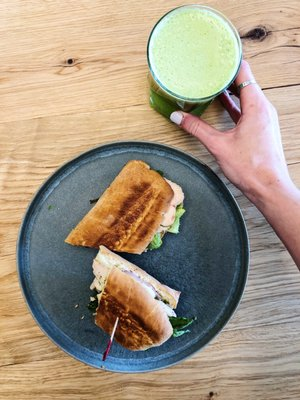pizza: (146, 4, 243, 125)
soup: (89, 244, 182, 352)
